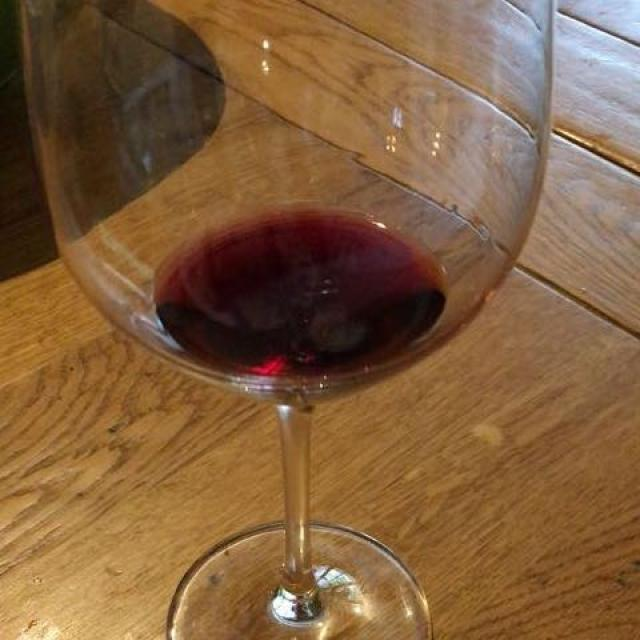wine: (163, 211, 441, 378)
